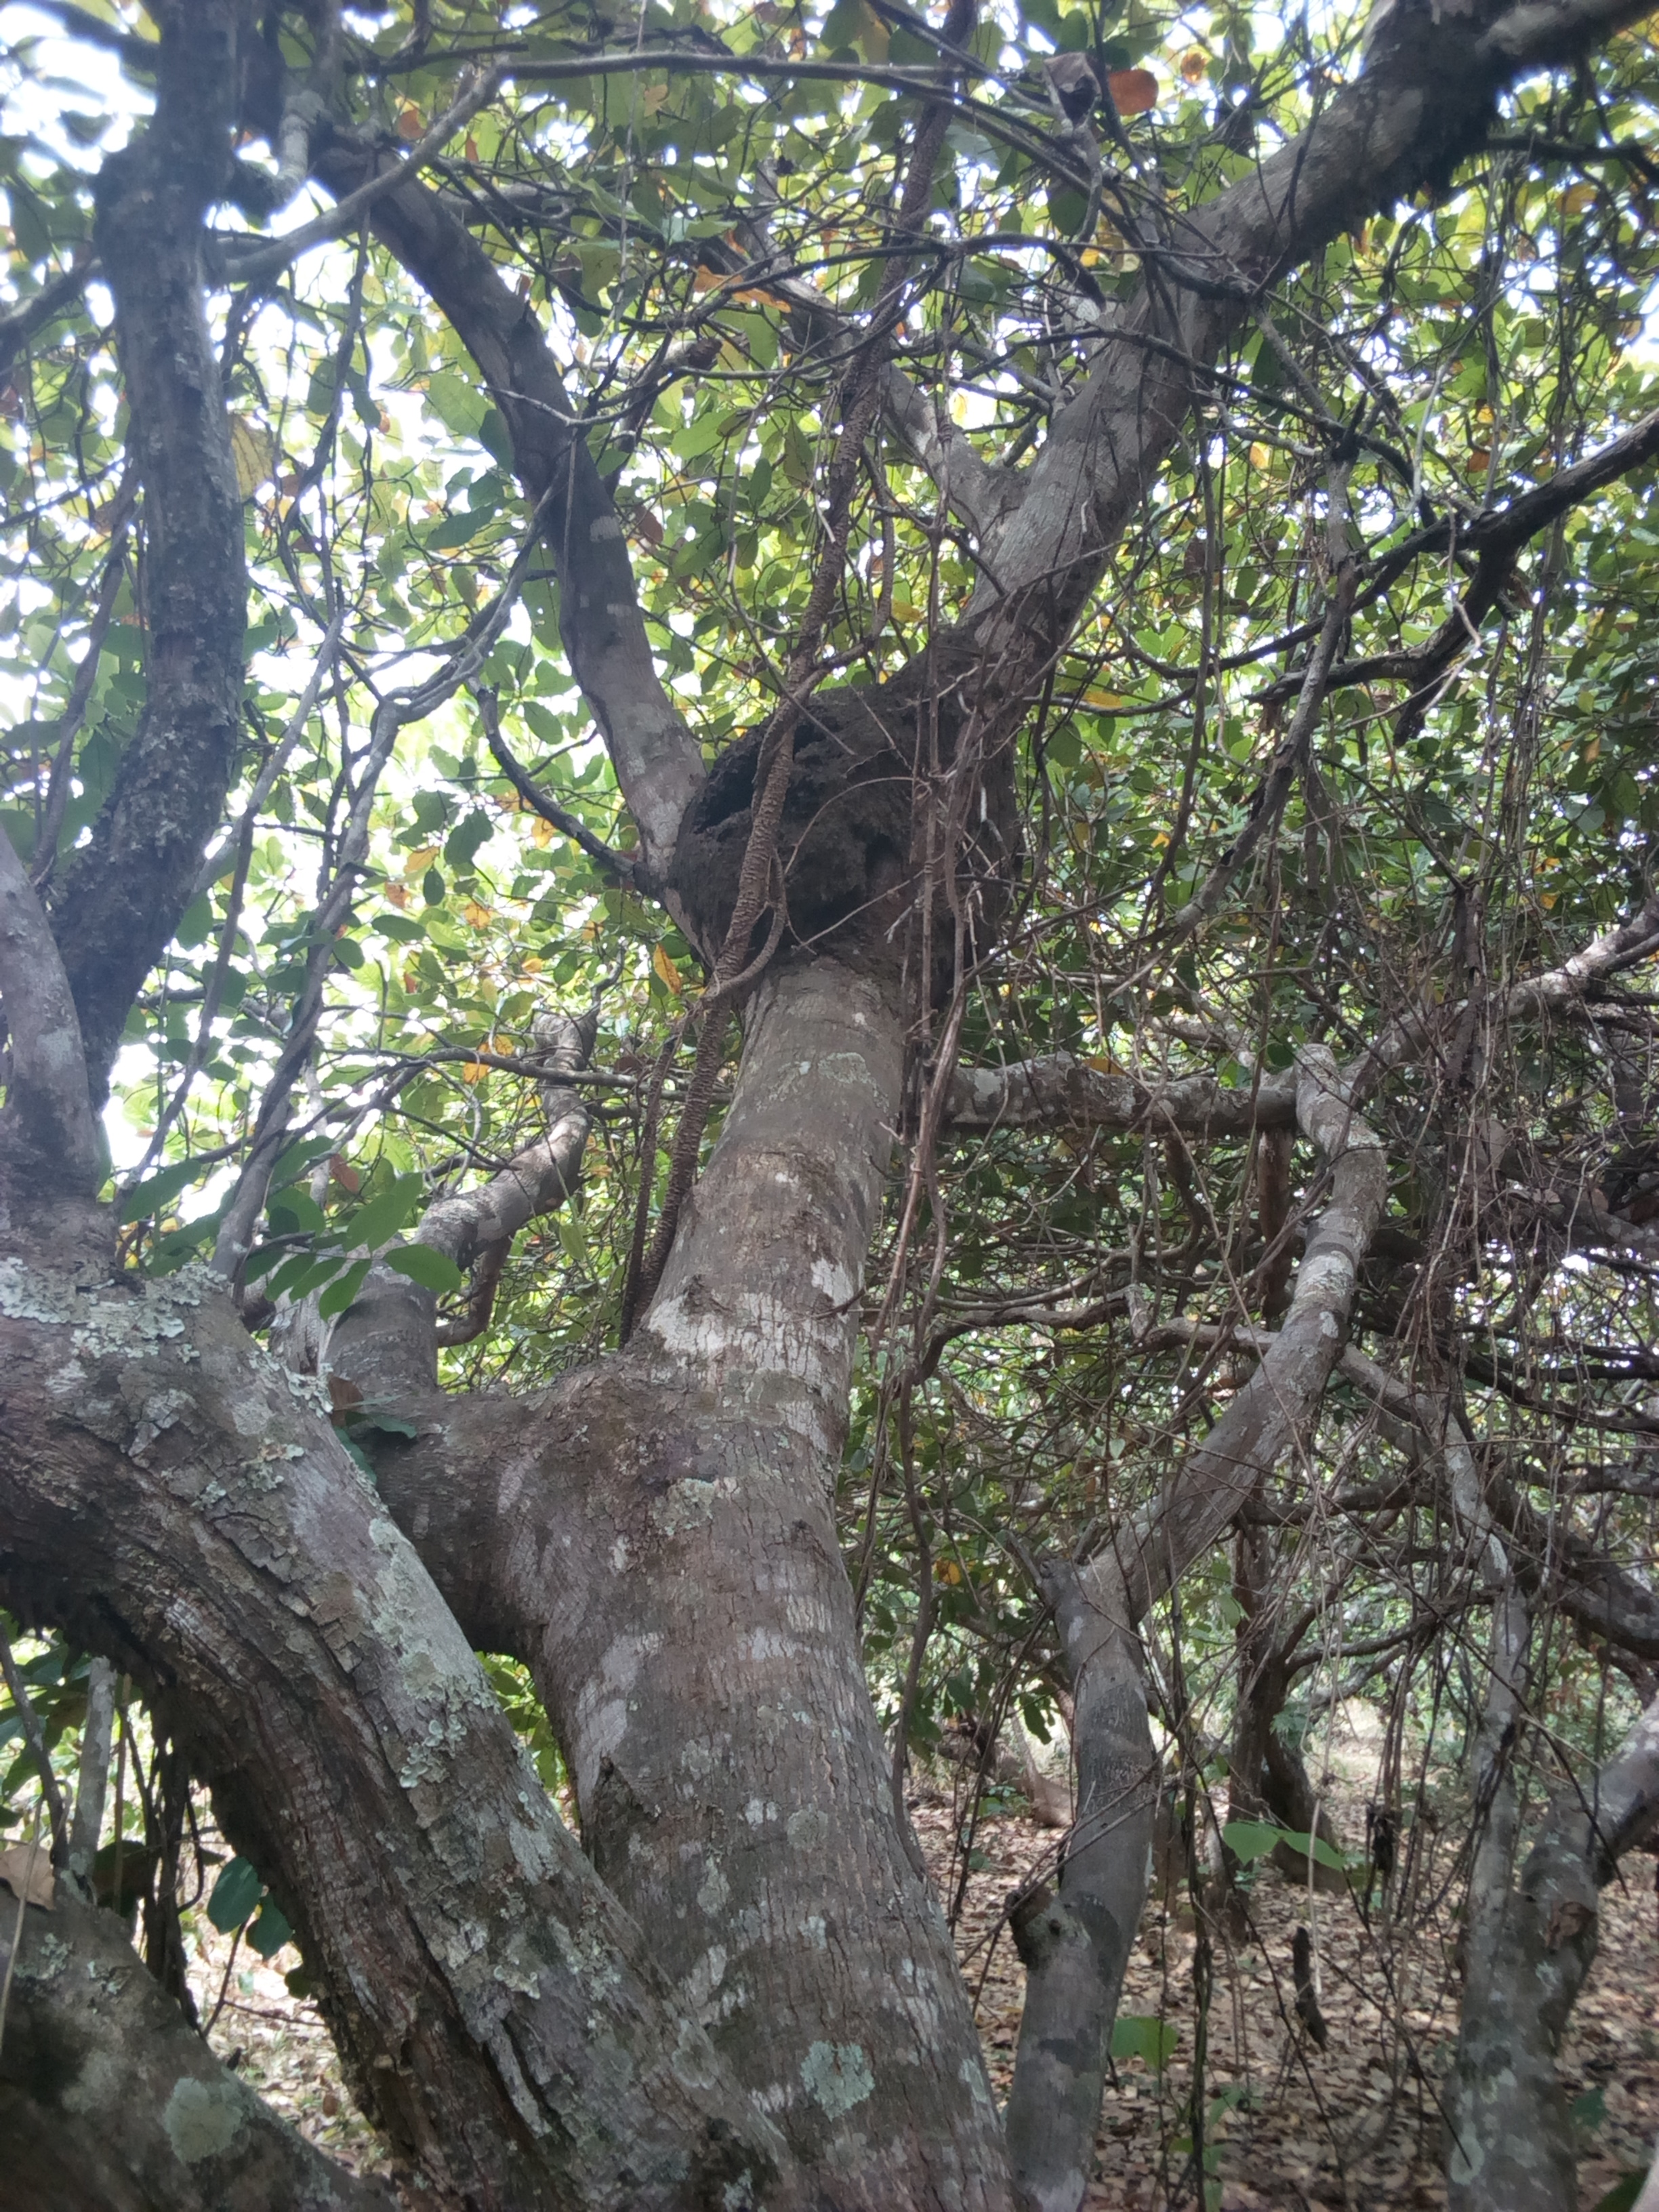Termites: (687, 702, 1019, 944)
